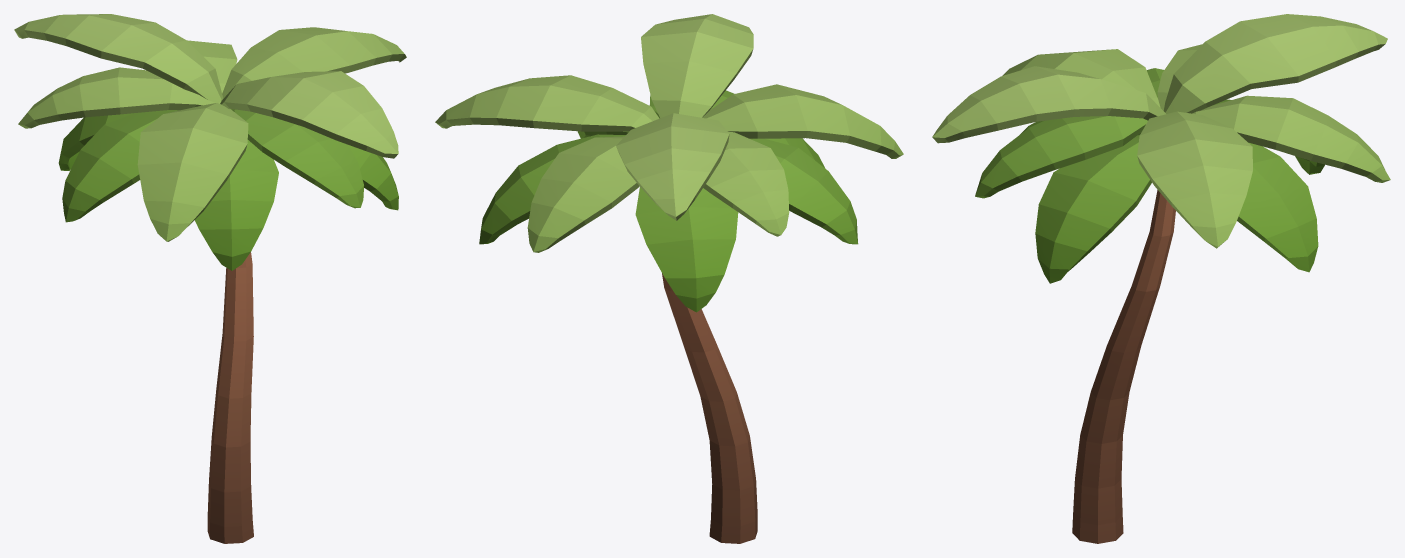
The model's file is palm tree bent.fbx.
3 views of the same model, side by side, from view 1: azimuth 30°, elevation 25°; view 2: azimuth 150°, elevation 25°; view 3: azimuth 270°, elevation 25° (orthographic). The views are drawn at different scales.
Parts seen in each view (by area): view 1: palm tree bent; view 2: palm tree bent; view 3: palm tree bent.
Part boxes in pixels (x1,y1,x2,y2): palm tree bent: [14, 14, 406, 543]; palm tree bent: [435, 14, 903, 543]; palm tree bent: [932, 14, 1390, 543].
Bounding box in the file's own units: 609 × 711 × 608.
